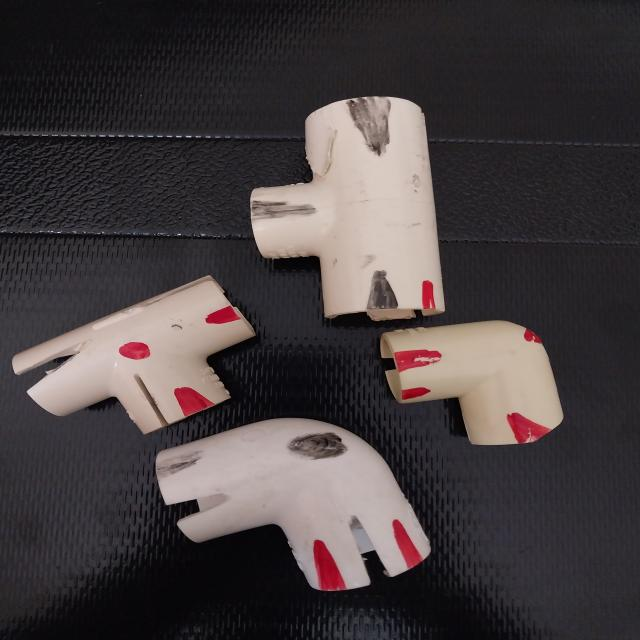Defective: (349, 100, 397, 158), (352, 516, 388, 588), (19, 352, 86, 390), (173, 493, 239, 522), (138, 381, 174, 426), (307, 543, 343, 588), (253, 199, 313, 222), (287, 433, 342, 458), (510, 322, 550, 356), (370, 270, 398, 318), (393, 523, 421, 561), (389, 354, 443, 372), (175, 390, 209, 414), (509, 416, 538, 440), (159, 459, 198, 476), (118, 342, 150, 362), (210, 308, 241, 324), (422, 282, 436, 316), (401, 390, 431, 402)
L Joint: (170, 417, 425, 591), (373, 318, 564, 446)
T Joint: (248, 100, 440, 324), (22, 270, 252, 430), (50, 308, 230, 406)
